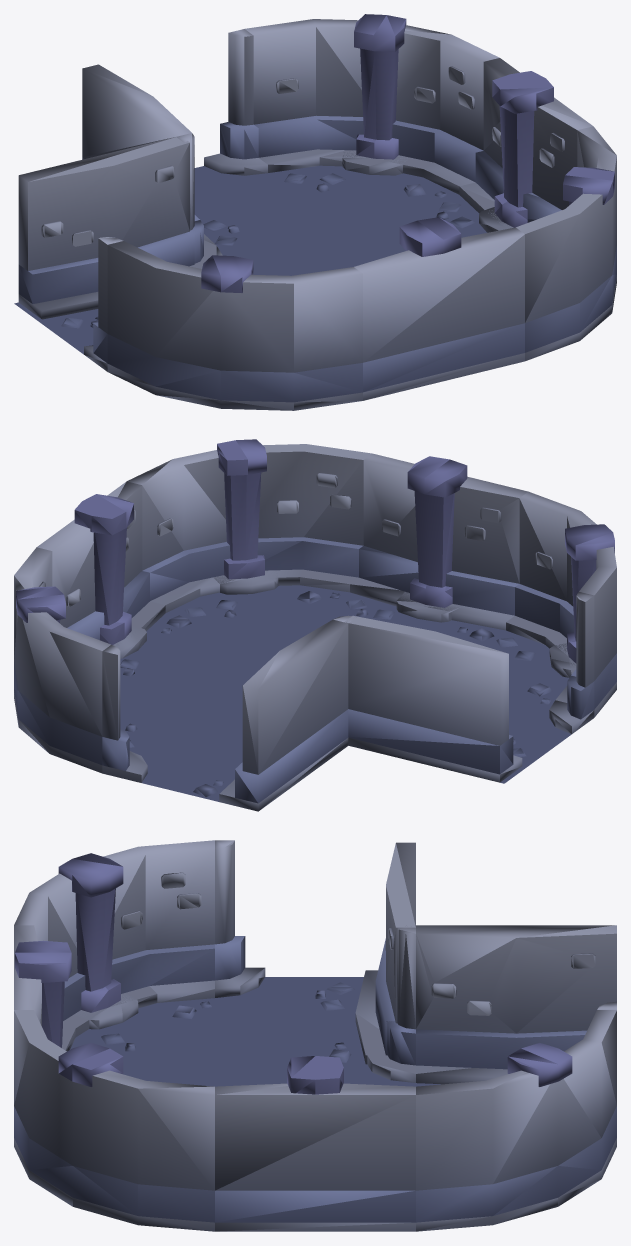
File: room-corner_lev2.glb
3 renders of one model, top to bottom at view 1: azimuth 30°, elevation 25°; view 2: azimuth 150°, elevation 25°; view 3: azimuth 270°, elevation 25°, orthographic. The views are drawn at different scales.
Visible parts, largest first — view 1: room-corner_lev2; view 2: room-corner_lev2; view 3: room-corner_lev2.
Part boxes in pixels (box(x1,y1,x2,y2)): room-corner_lev2: box(14, 14, 616, 410); room-corner_lev2: box(14, 439, 616, 811); room-corner_lev2: box(14, 840, 616, 1231).
Size of the model in its own units: 12 by 3.33 by 12.
1 material, 1 textured.
